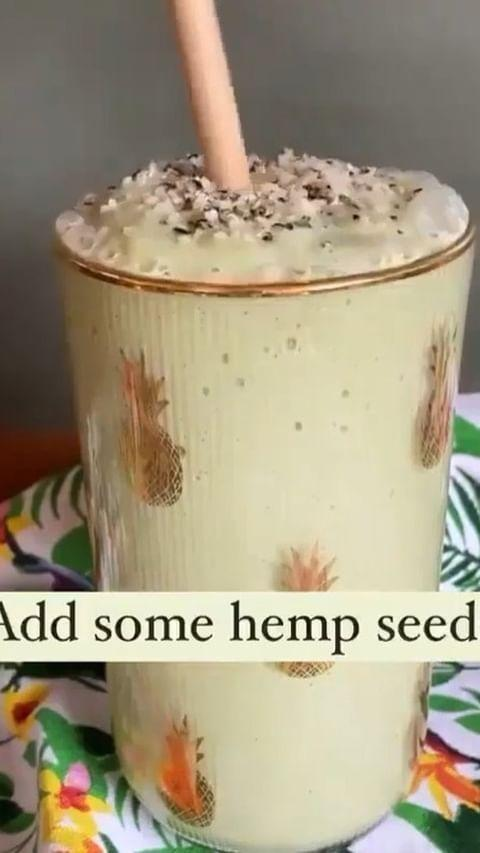glass-normal: (53, 144, 480, 853)
